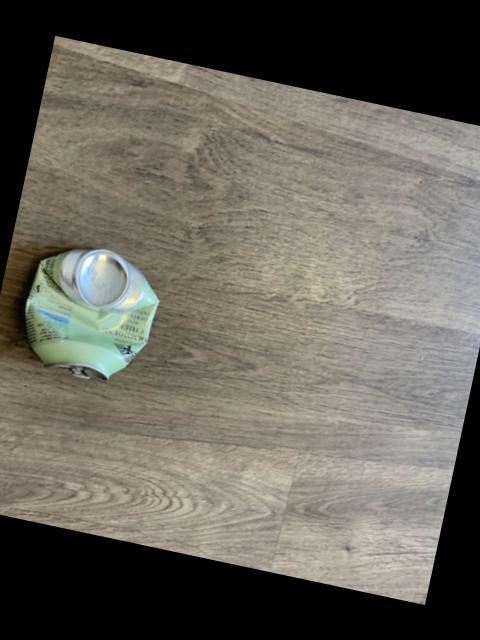metal: (26, 248, 158, 379)
